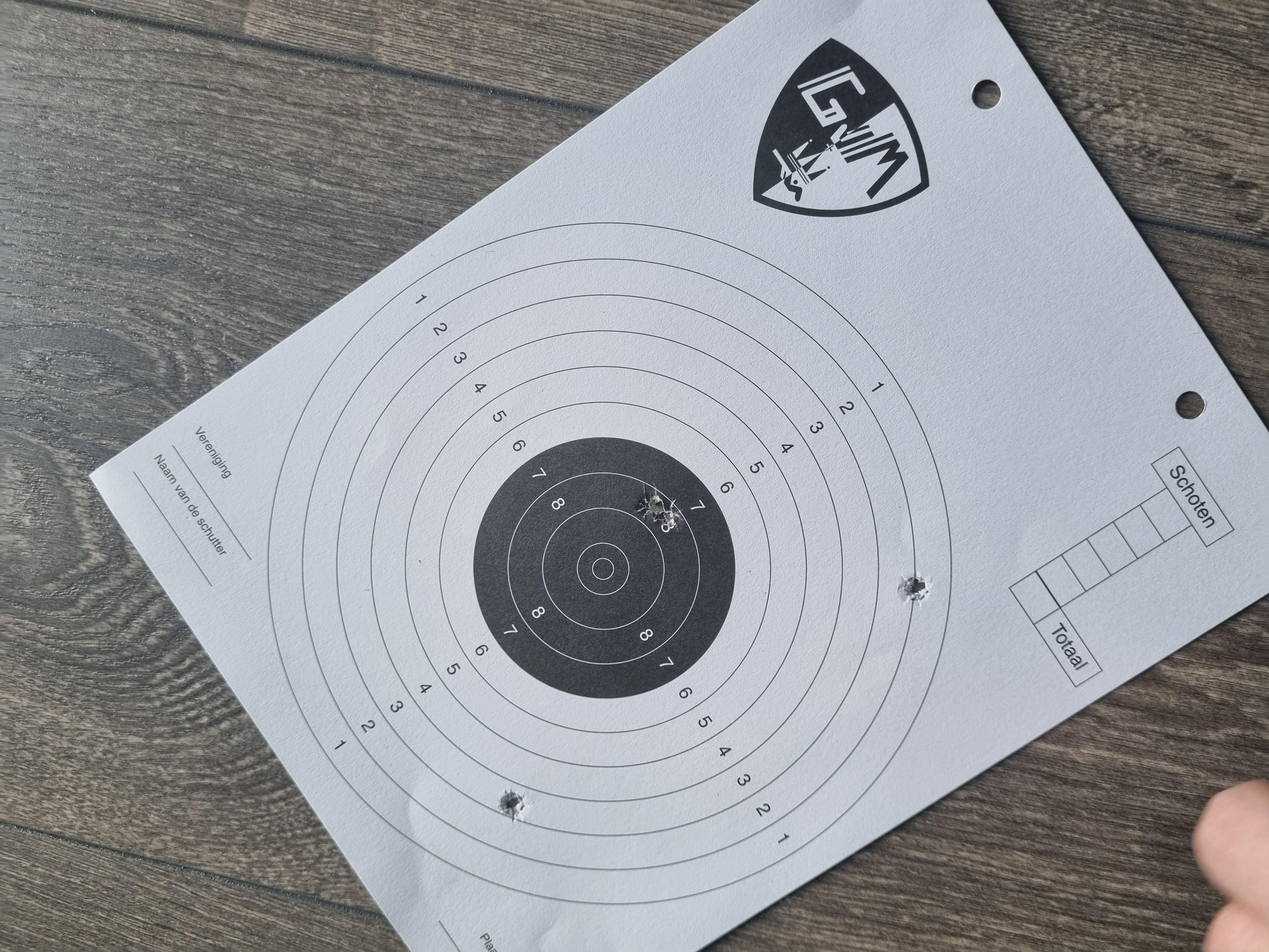hole: (166, 368, 224, 398), (452, 673, 516, 699), (576, 475, 615, 499), (566, 490, 595, 513)
